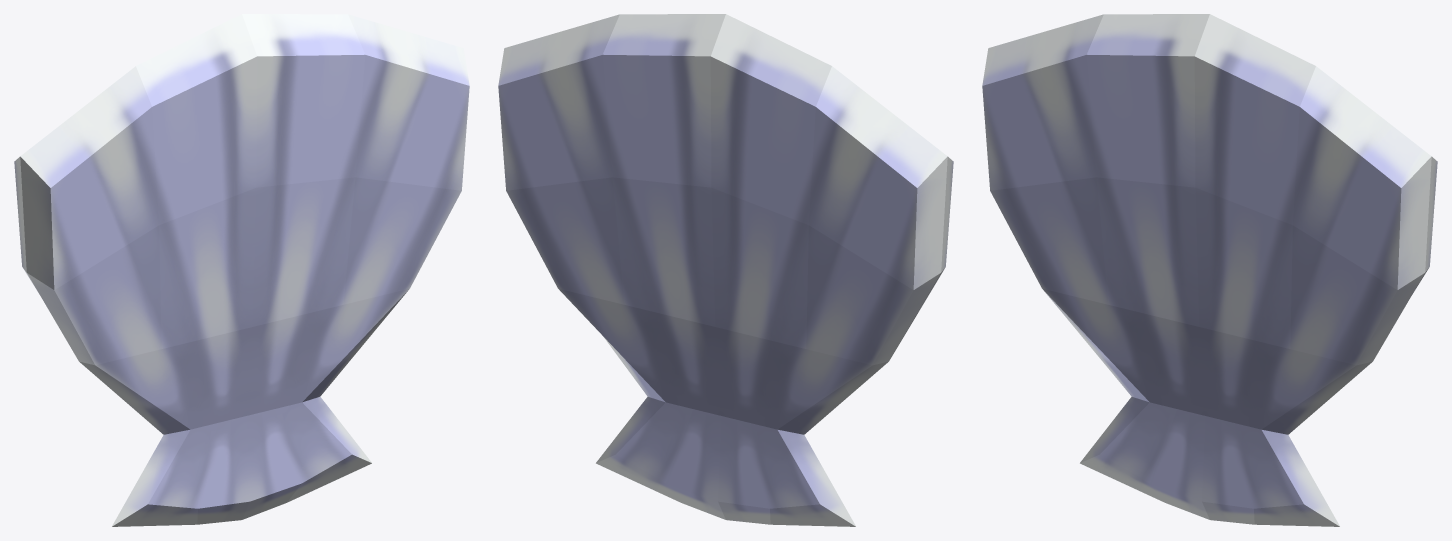
File: Concha.glb
3 renders of one model, left to right at view 1: azimuth 30°, elevation 25°; view 2: azimuth 150°, elevation 25°; view 3: azimuth 330°, elevation 25°, orthographic.
Parts seen in each view (by area): view 1: Concha; view 2: Concha; view 3: Concha.
Part boxes in pixels (box(x1,y1,x2,y2)): Concha: box(14, 14, 469, 526); Concha: box(498, 14, 953, 526); Concha: box(982, 14, 1437, 526).
Bounding box in the file's own units: 32.94 × 35.92 × 4.67.
1 material, 1 textured.
